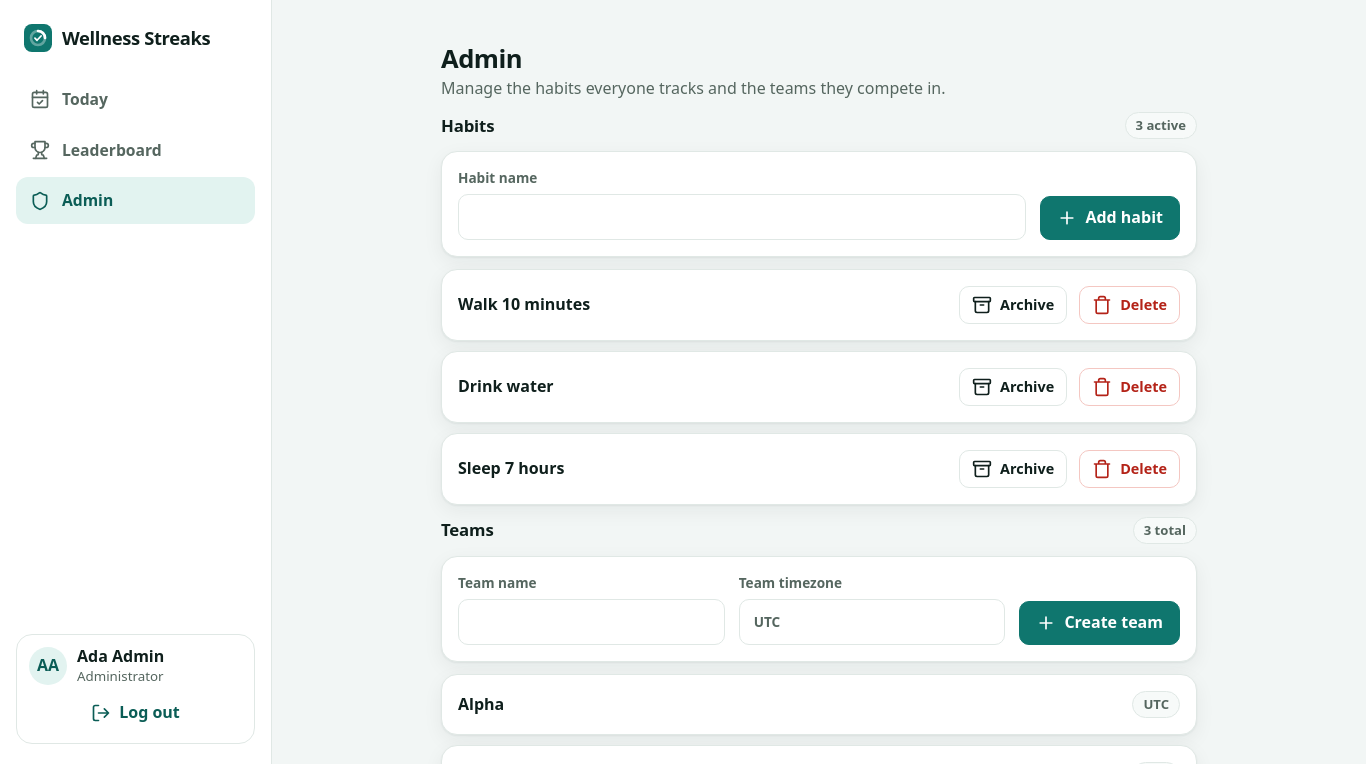
Scenario: admin deletes habits › shows the API message and keeps the habit when it has check-ins (archive instead)
# "Walk 10 minutes" has seeded check-ins
Click the button with aria-label "Delete Walk 10 minutes". click: (1130, 305)
box: [1079,286,1180,324]
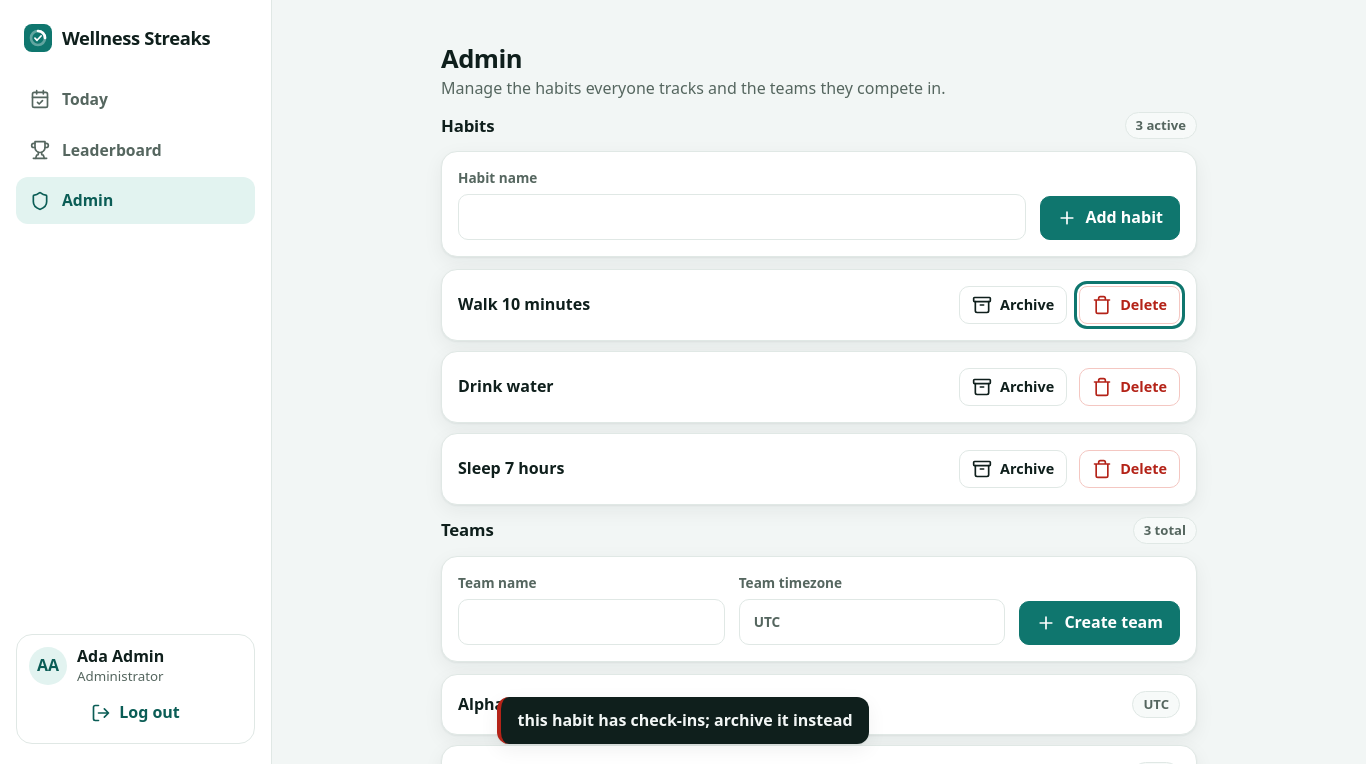
Expected: the text "Walk 10 minutes" is shown, [458,293,590,315]
Now the text "this habit has check-ins; archive it instead" is shown, box [498,697,868,744]
